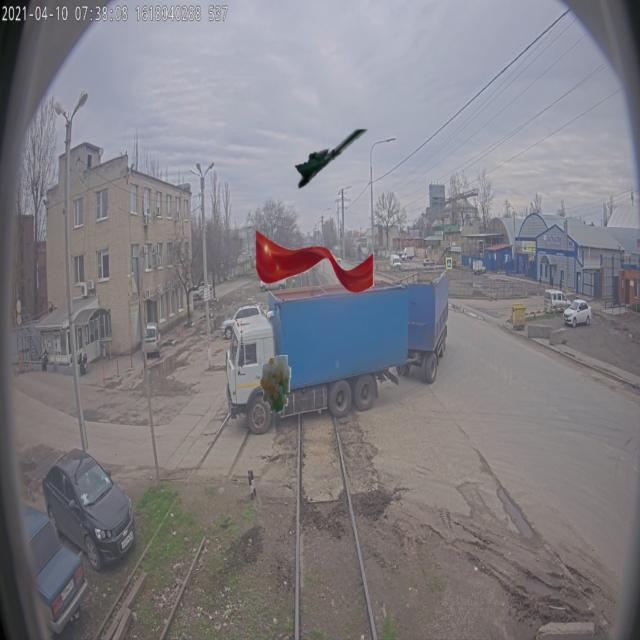balloon: (259, 349, 291, 414)
floating object: (253, 230, 376, 294), (294, 125, 371, 189)
